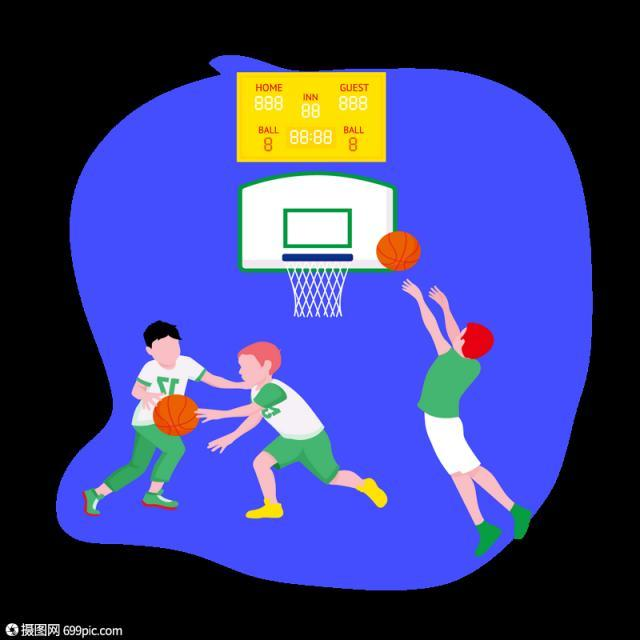rim: (152, 392, 202, 434), (376, 230, 420, 272)
